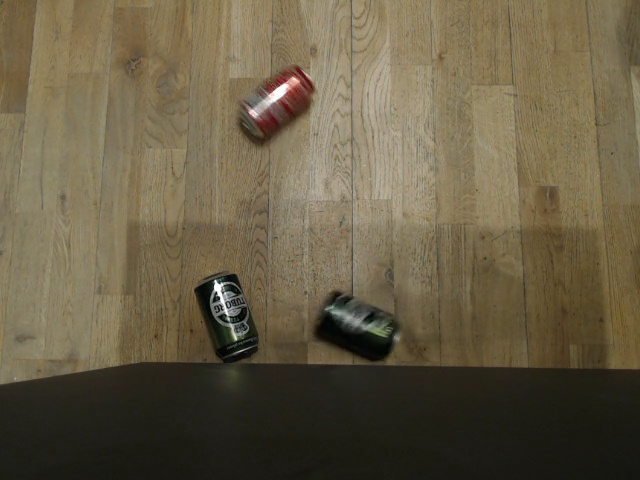beer: (311, 290, 402, 362), (193, 268, 259, 363)
cola: (235, 62, 318, 137)
